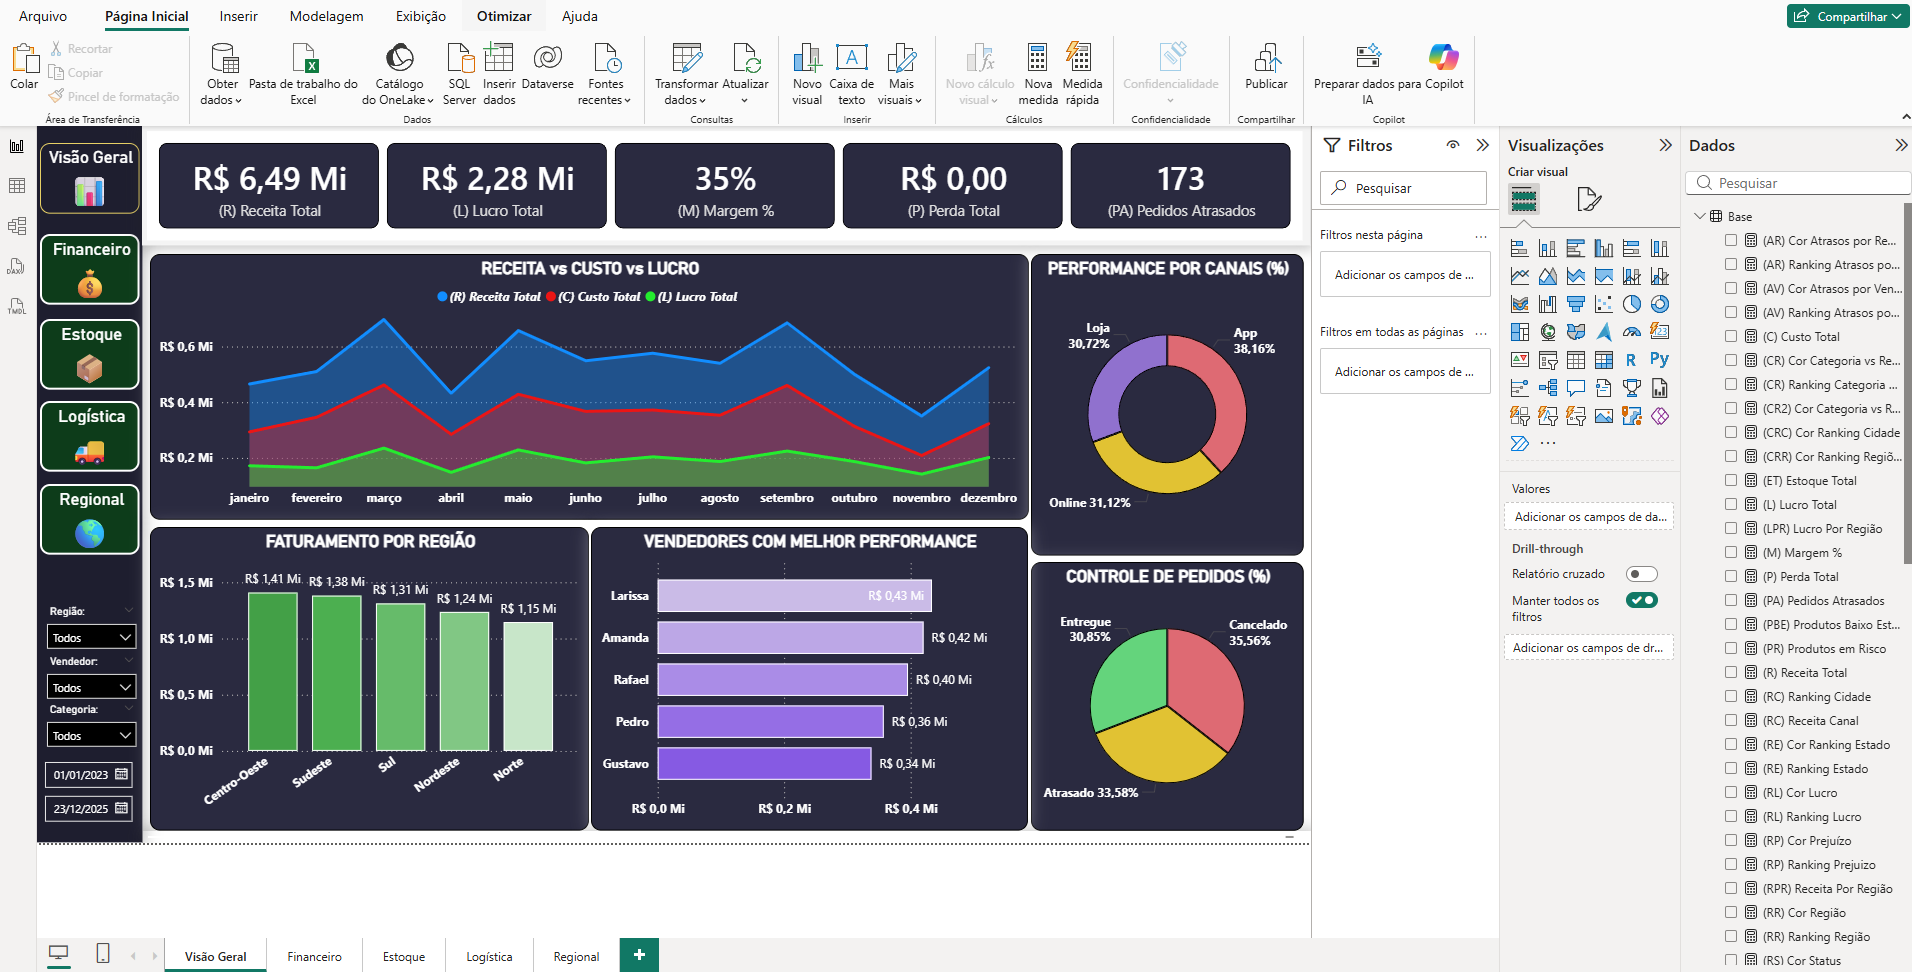

The page's visual inventory and layout, read from the dashboard file:
{"tool":"powerbi","page":{"name":"Visão Geral","canvas":[1280,720],"ordinal":0},"visuals":[{"type":"shape","box":[0,0,106,719.8],"z":0},{"type":"actionButton","title":"Visão Geral","box":[2.9,17.5,100.2,71],"z":1000},{"type":"actionButton","title":"Financeiro","box":[2.9,108.9,100.2,71],"z":2000},{"type":"actionButton","title":"Estoque","box":[2.9,193.6,100.2,71],"z":3000},{"type":"actionButton","title":"Logística","box":[2.9,276.2,100.2,71],"z":4000},{"type":"actionButton","title":"Regional","box":[2.9,359.9,100.2,71],"z":5000},{"type":"cardVisual","fields":{"Data":["Base.(R) Receita Total","Base.(L) Lucro Total","Base.(M) Margem %","Base.(P) Perda Total","Base.(PA) Pedidos Atrasados"]},"box":[105.9,0,1174.1,120.2],"z":6000},{"type":"lineChart","title":"RECEITA vs CUSTO vs LUCRO","fields":{"Category":["Base.Data.Variation.Hierarquia de datas.Mês"],"Y":["Base.(R) Receita Total","Base.(C) Custo Total","Base.(L) Lucro Total"]},"box":[113.4,128.4,882.8,266.8],"z":7000},{"type":"donutChart","title":"PERFORMANCE POR CANAIS (%)","fields":{"Category":["Base.Canal"],"Y":["Base.(R) Receita Total"]},"box":[999.1,128.4,273.9,302.9],"z":8000},{"type":"cardVisual","fields":{"Data":["Base.(SE) Status Estoque"]},"box":[106.3,708.2,1173.7,12],"z":9000},{"type":"clusteredColumnChart","title":"FATURAMENTO POR REGIÃO","fields":{"Category":["Base.Regiao"],"Y":["Base.(R) Receita Total"]},"box":[113.4,403.3,441.4,305],"z":10000},{"type":"pieChart","title":"CONTROLE DE PEDIDOS (%)","fields":{"Category":["Base.Status Pedido"],"Y":["Base.(R) Receita Total"]},"box":[999.1,438.4,273.9,269.8],"z":11000},{"type":"clusteredBarChart","title":"VENDEDORES COM MELHOR PERFORMANCE","fields":{"Category":["Base.Vendedor"],"Y":["Base.(R) Receita Total"]},"box":[557,403,439,305],"z":12000},{"type":"slicer","fields":{"Values":["Base.Data"]},"box":[0,634,105,72],"z":13000},{"type":"slicer","fields":{"Values":["Base.Regiao"]},"box":[0,476,110,59],"z":14000},{"type":"slicer","fields":{"Values":["Base.Vendedor"]},"box":[0,526,110,59],"z":15000},{"type":"slicer","fields":{"Values":["Base.Categoria"]},"box":[0,575,110,59],"z":16000}]}

Visuals, with their boxes on the page's 1280x720 design canvas (x1, y1, x2, y2). These are canvas units, not pixel positions in the 1912x972 screenshot, which may show the page scaled, cropped or inside an application window:
shape: 0:0:106:720
"Visão Geral" actionButton: 3:18:103:88
"Financeiro" actionButton: 3:109:103:180
"Estoque" actionButton: 3:194:103:265
"Logística" actionButton: 3:276:103:347
"Regional" actionButton: 3:360:103:431
cardVisual - Base.(R) Receita Total x Base.(L) Lucro Total: 106:0:1280:120
"RECEITA vs CUSTO vs LUCRO" lineChart: 113:128:996:395
"PERFORMANCE POR CANAIS (%)" donutChart: 999:128:1273:431
cardVisual - Base.(SE) Status Estoque: 106:708:1280:720
"FATURAMENTO POR REGIÃO" clusteredColumnChart: 113:403:555:708
"CONTROLE DE PEDIDOS (%)" pieChart: 999:438:1273:708
"VENDEDORES COM MELHOR PERFORMANCE" clusteredBarChart: 557:403:996:708
slicer - Base.Data: 0:634:105:706
slicer - Base.Regiao: 0:476:110:535
slicer - Base.Vendedor: 0:526:110:585
slicer - Base.Categoria: 0:575:110:634
